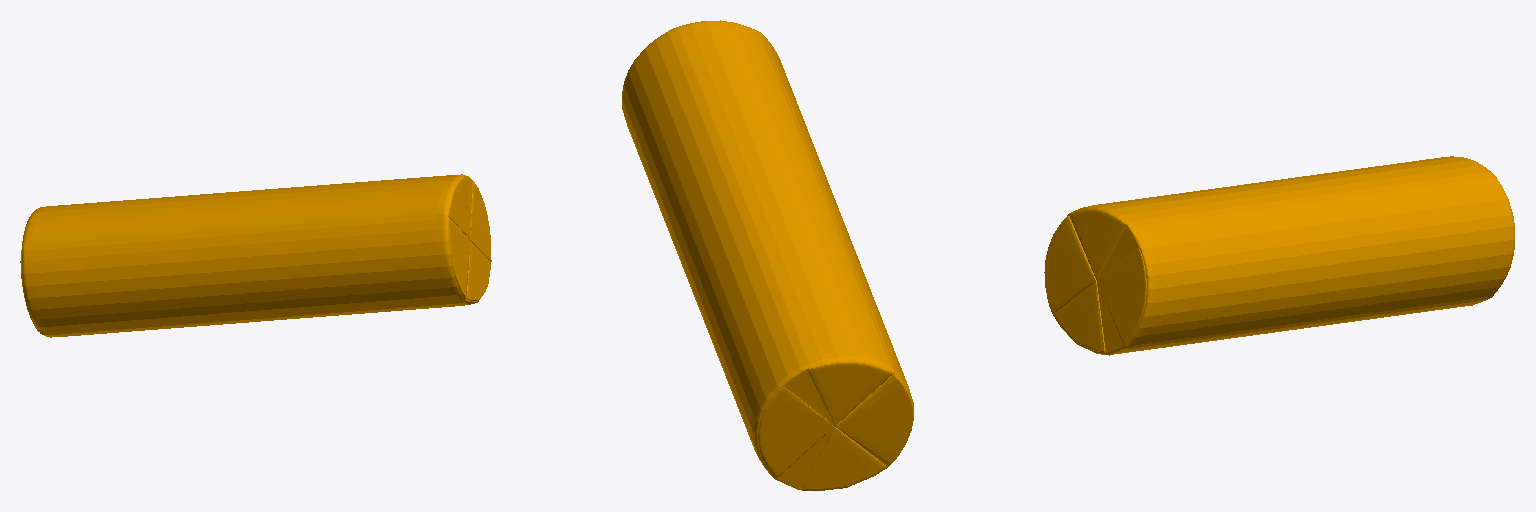
URDF robot description (biscuit):
<?xml version="1.0"?>
<robot name="biscuit">
  <link name="biscuit">
    <visual>
      <origin xyz="0.0 0.0 0.0"/>
      <geometry>
        <mesh filename="biscuit.obj" scale="0.1 0.1 0.1"/>
      </geometry>
    </visual>
    <collision>
      <origin xyz="0.0 0.0 0.0"/>
      <geometry>
        <mesh filename="biscuit.obj" scale="0.1 0.1 0.1"/>
      </geometry>
    </collision>
    <inertial>
      <mass value="0.3"/>
      <inertia ixx="0.0001" ixy="0.0" ixz="0.0" iyy="0.0001" iyz="0.0" izz="0.0001"/>
    </inertial>
  </link>
</robot>

--- Facts derived from the render (not from the file) ---
3 views of the same robot in one strip: view 1: azimuth 30°, elevation 25°; view 2: azimuth 150°, elevation 25°; view 3: azimuth 270°, elevation 25° (orthographic).
Model biscuit with 1 links and 0 joints (none), rooted at biscuit, posed all joints at 0.
Visible links, largest first — view 1: biscuit; view 2: biscuit; view 3: biscuit.
Link boxes in pixels (x1=…): biscuit: x1=20, y1=174, x2=491, y2=337; biscuit: x1=622, y1=20, x2=913, y2=490; biscuit: x1=1044, y1=156, x2=1514, y2=355.
Size in the robot's own frame: 0.0175 by 0.018 by 0.0096 metres.
Meshes: 1 distinct files referenced, 1 mesh visuals loaded (1 OBJ).